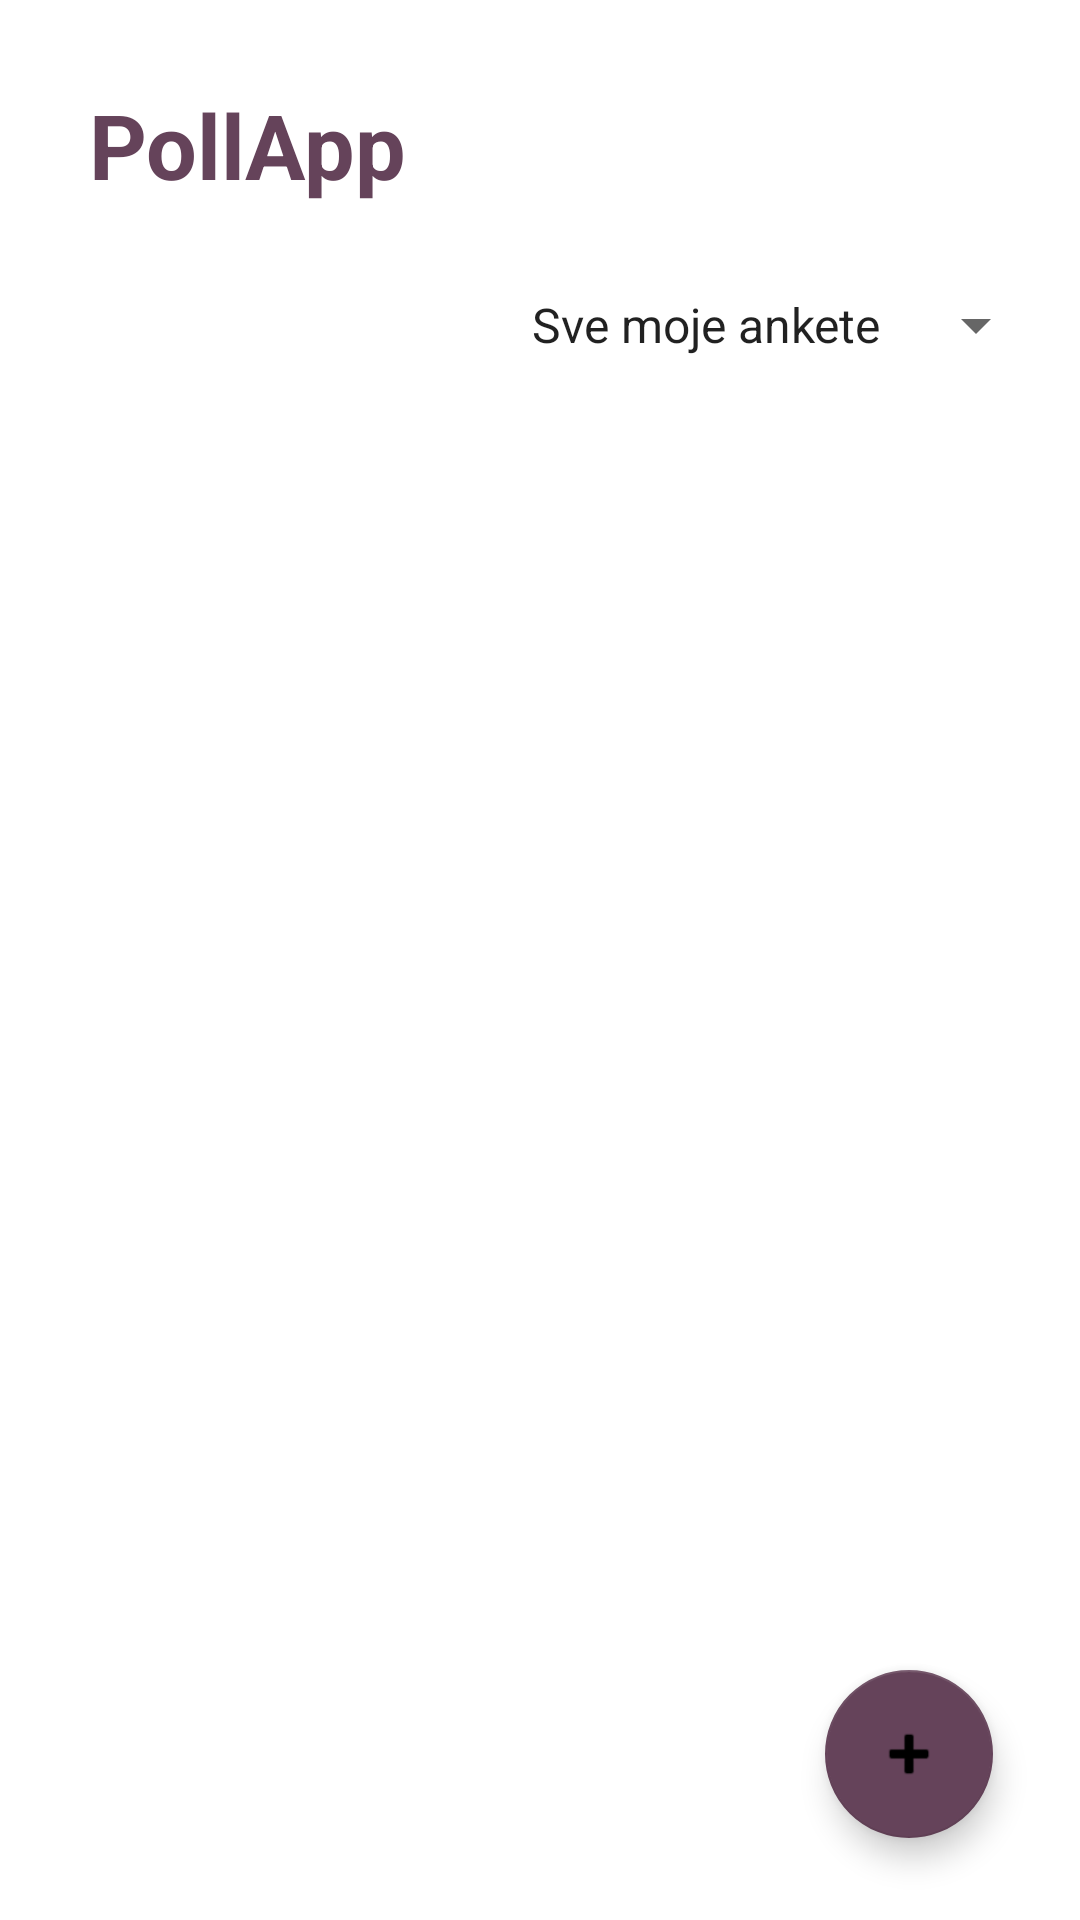

Icon bounding boxes for this 1080 × 1920 phone screenshot, format {"x1": x1, "y1": y1, "x2": x2, "y2": y2}:
add: {"x1": 825, "y1": 1670, "x2": 993, "y2": 1838}
